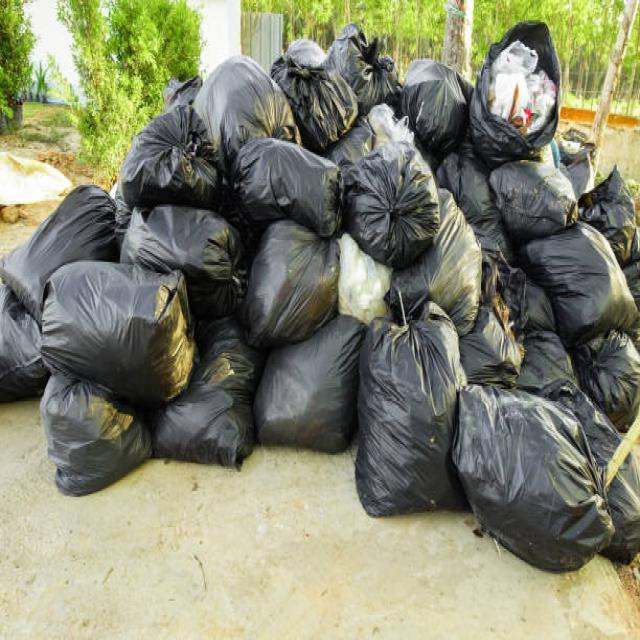Trashbag: (458, 383, 611, 568), (357, 310, 465, 522), (254, 312, 370, 453), (463, 22, 574, 166), (36, 370, 155, 500), (165, 318, 258, 474), (50, 274, 181, 377), (102, 106, 220, 219), (525, 223, 634, 340), (215, 136, 343, 235), (387, 209, 490, 331), (243, 216, 345, 339), (330, 155, 437, 260), (125, 201, 249, 287), (12, 184, 114, 286), (195, 51, 292, 140), (322, 28, 402, 119), (490, 158, 580, 236), (403, 56, 466, 156), (0, 266, 43, 412), (280, 42, 352, 127), (433, 142, 499, 224), (571, 328, 635, 412), (566, 166, 637, 241), (460, 307, 524, 380), (518, 324, 575, 402)
